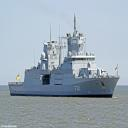Fragata: (9, 9, 122, 101)
